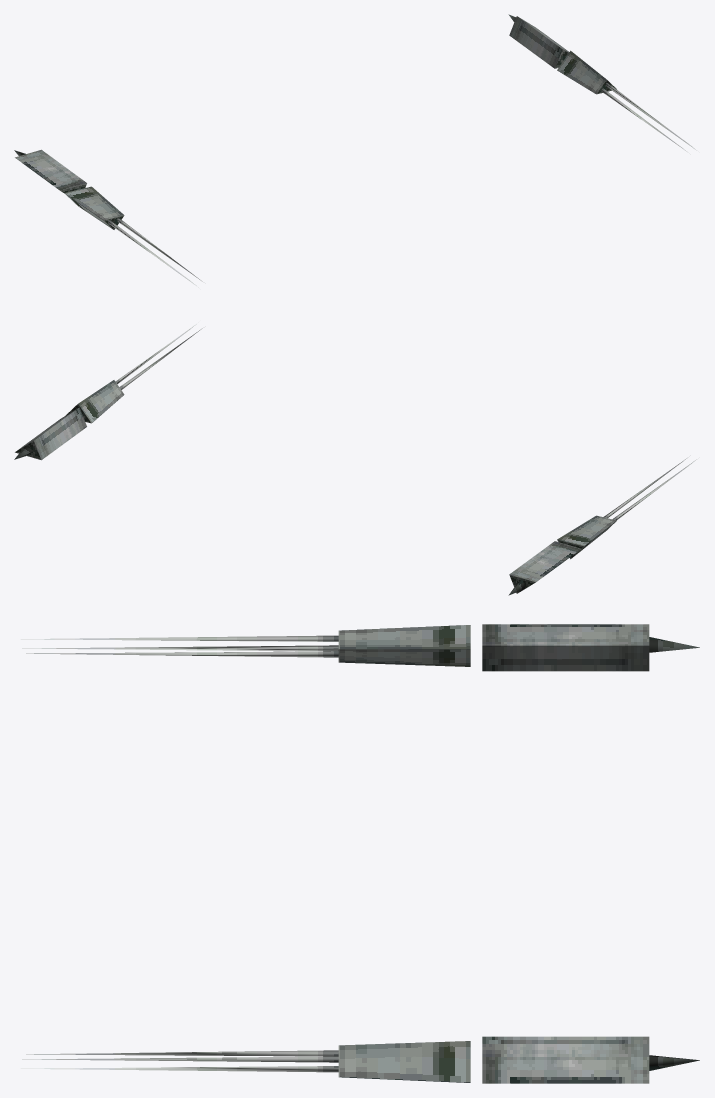
The model's file is xwing_weapon1_neg_s04_l3.fbx.
3 views of the same model, one above another, from view 1: azimuth 30°, elevation 25°; view 2: azimuth 150°, elevation 25°; view 3: azimuth 270°, elevation 25° (orthographic). The views are drawn at different scales.
Parts seen in each view (by area): view 1: mesh_node; view 2: mesh_node; view 3: mesh_node.
Part boxes in pixels (bbox=[...]): mesh_node: bbox=[14, 14, 696, 287]; mesh_node: bbox=[14, 322, 696, 595]; mesh_node: bbox=[21, 624, 699, 1083].
Bounding box in the file's own units: 14.48 × 0.9404 × 9.05.
Materials: 1 (1 with a texture image).
